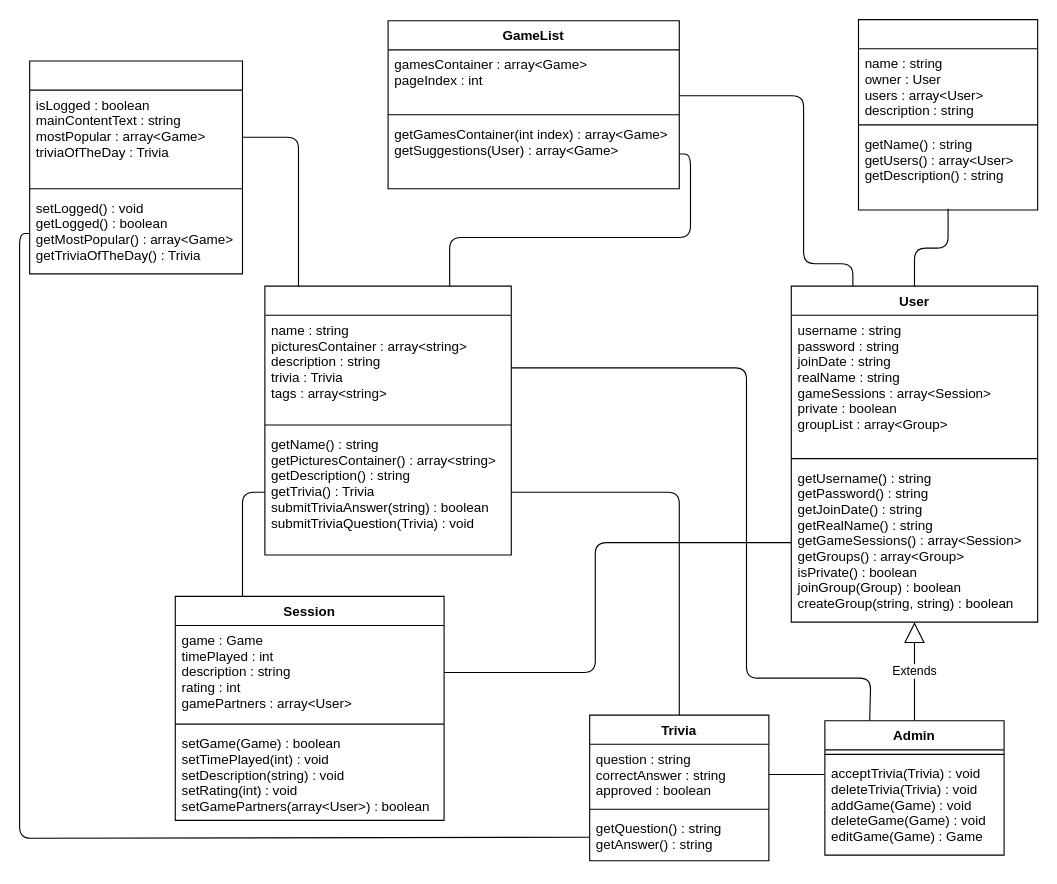
Image size: 1057x884. Some labels were removed from this diagram. The box of each missing label's shape, as (x1, y1, x2, y2) in pixels:
Game: (264, 285, 511, 555)
Group: (857, 18, 1038, 210)
MainPage: (29, 60, 242, 274)
